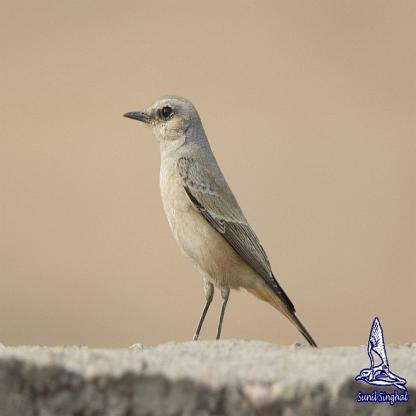Burung: (121, 90, 317, 354)
